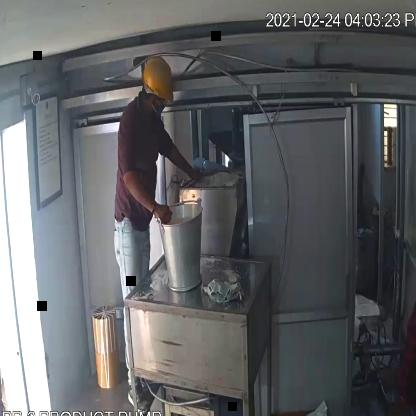helmet: (141, 57, 181, 105)
